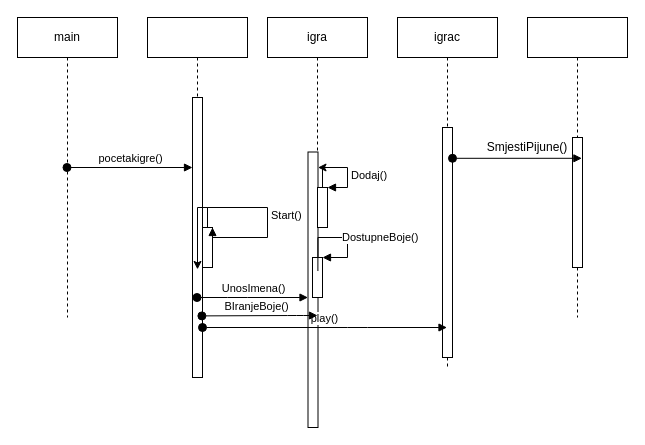
Some shapes in this 645 by 445 pixel diagram are drawn without their labels. Here are the shapes that lost their labels. From the top down, the box of each, then its label:
(526, 16, 628, 318): ploca
(146, 16, 248, 378): prikaz igre
